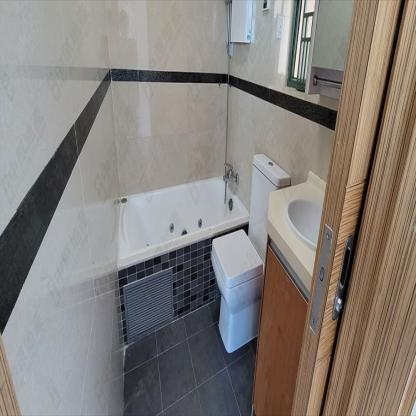Bathtub: (116, 173, 249, 350)
Toilet: (210, 150, 292, 354)
Toilet Sink: (287, 201, 325, 248)
Water Heater: (228, 1, 252, 42)
